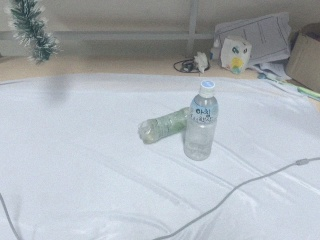bottle: (182, 79, 220, 162), (137, 108, 188, 145)
box: (285, 19, 320, 126)
